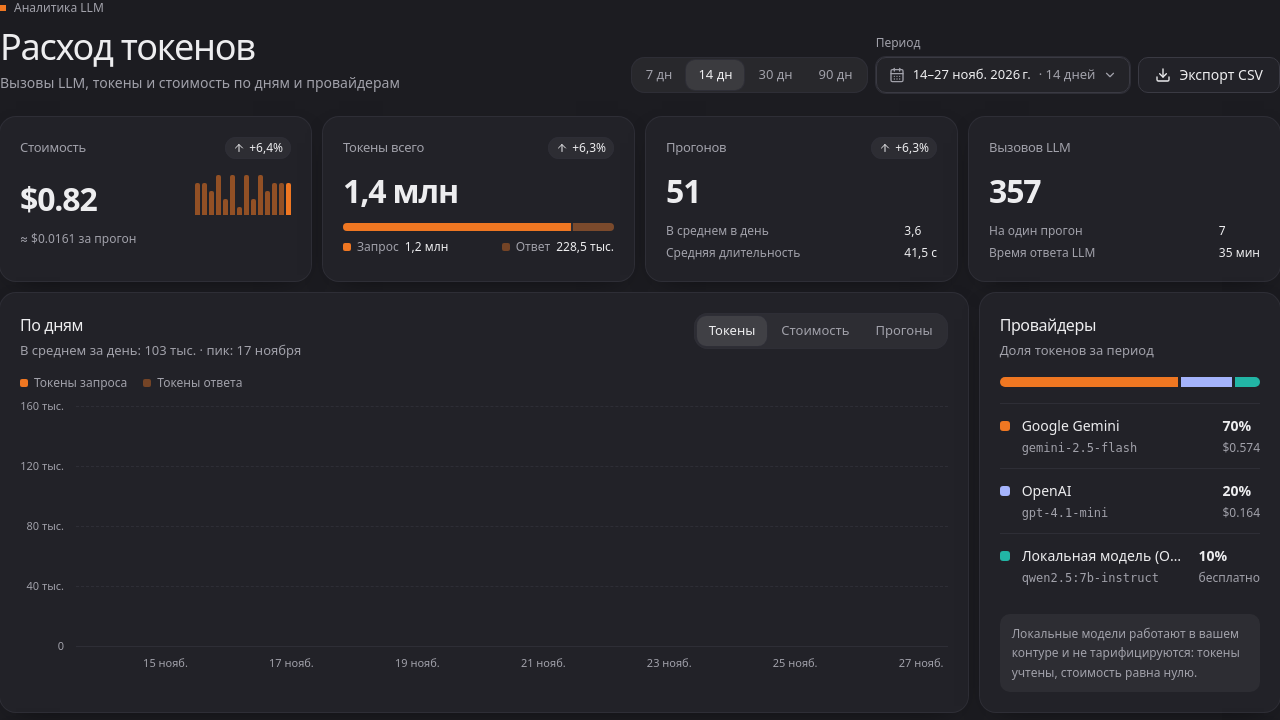
Test case: UsagePage › selects a range by two clicks, blocks future days and validates typed dates
The image size is (1280, 720).
Click the button named "Период".
click(1003, 75)  # box 876,57 -> 1130,93
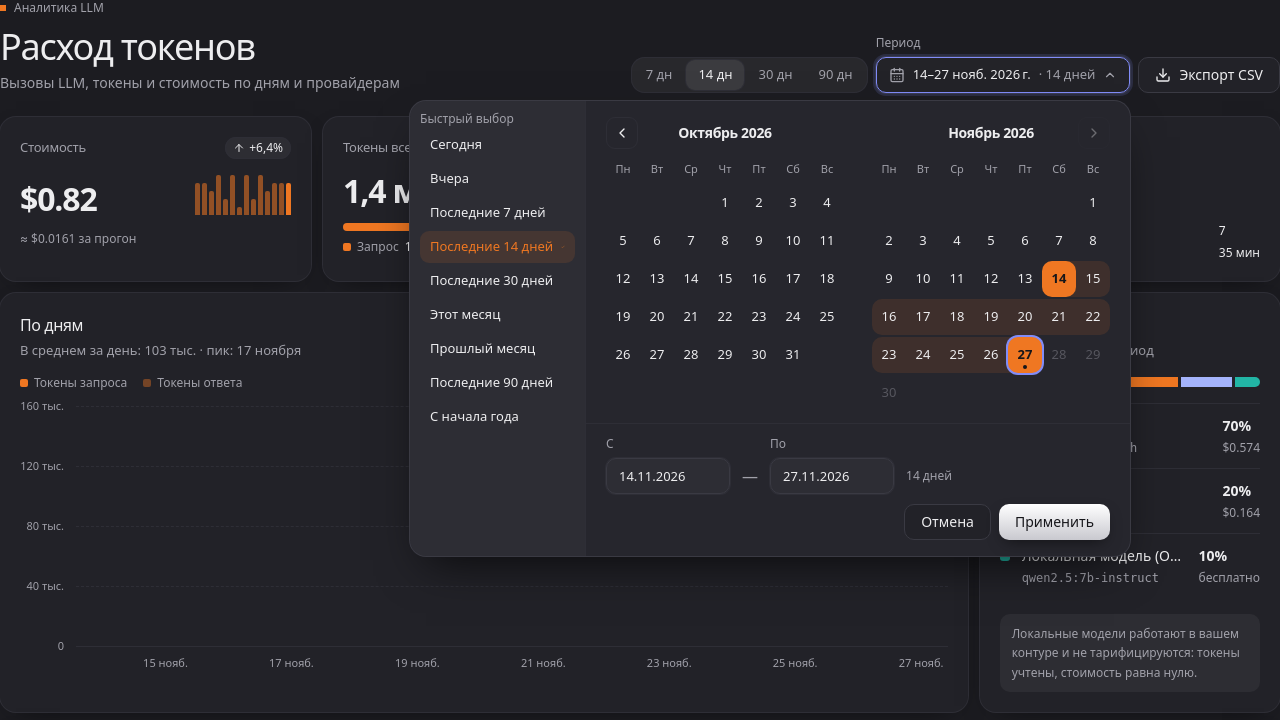
Click the 2nd button "24".
click(923, 355)  # box 906,337 -> 940,373
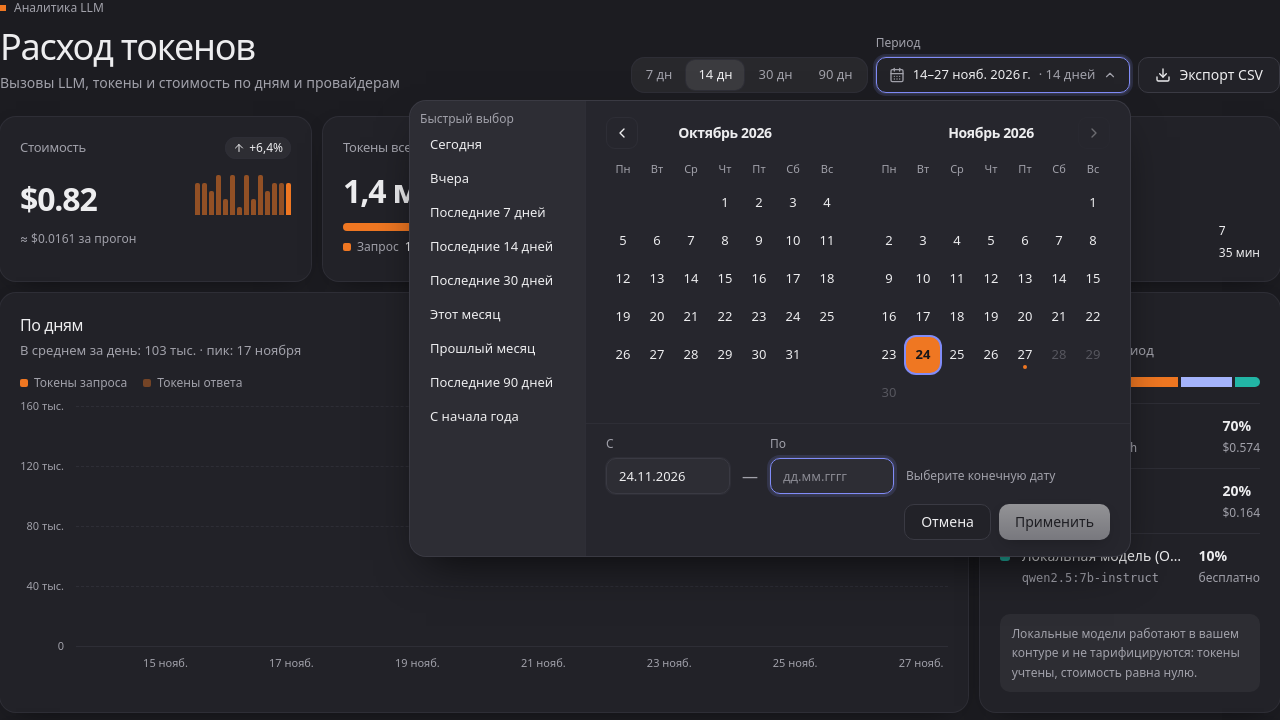
Result: the text "Выберите конечную дату" is shown at 906,467 -> 1055,484
Result: the button "Применить" is disabled at 999,504 -> 1110,540
Click the 2nd button "27".
click(1025, 355)  # box 1008,337 -> 1042,373
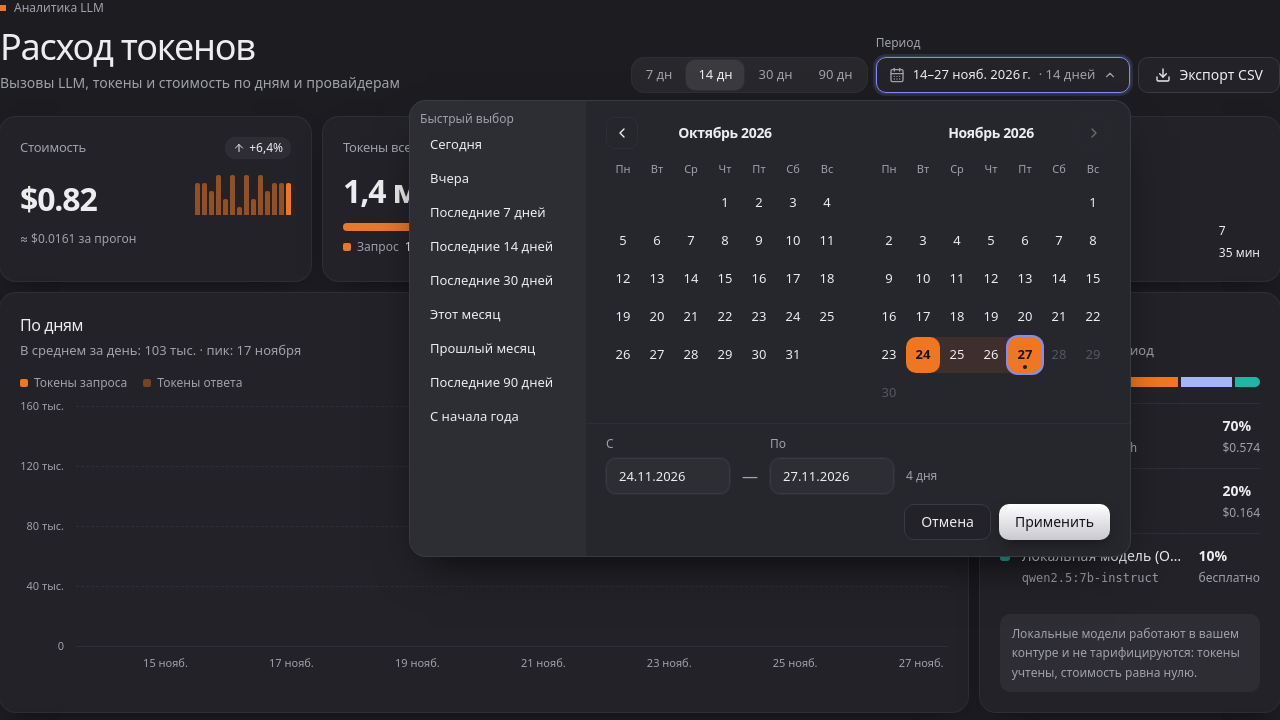
Result: the text "4 дня" is shown at 906,467 -> 937,484
Replace the text in the field labelled "С" with "31.02.2026" at (668,476), box 606,458 -> 730,494
Then press Enter
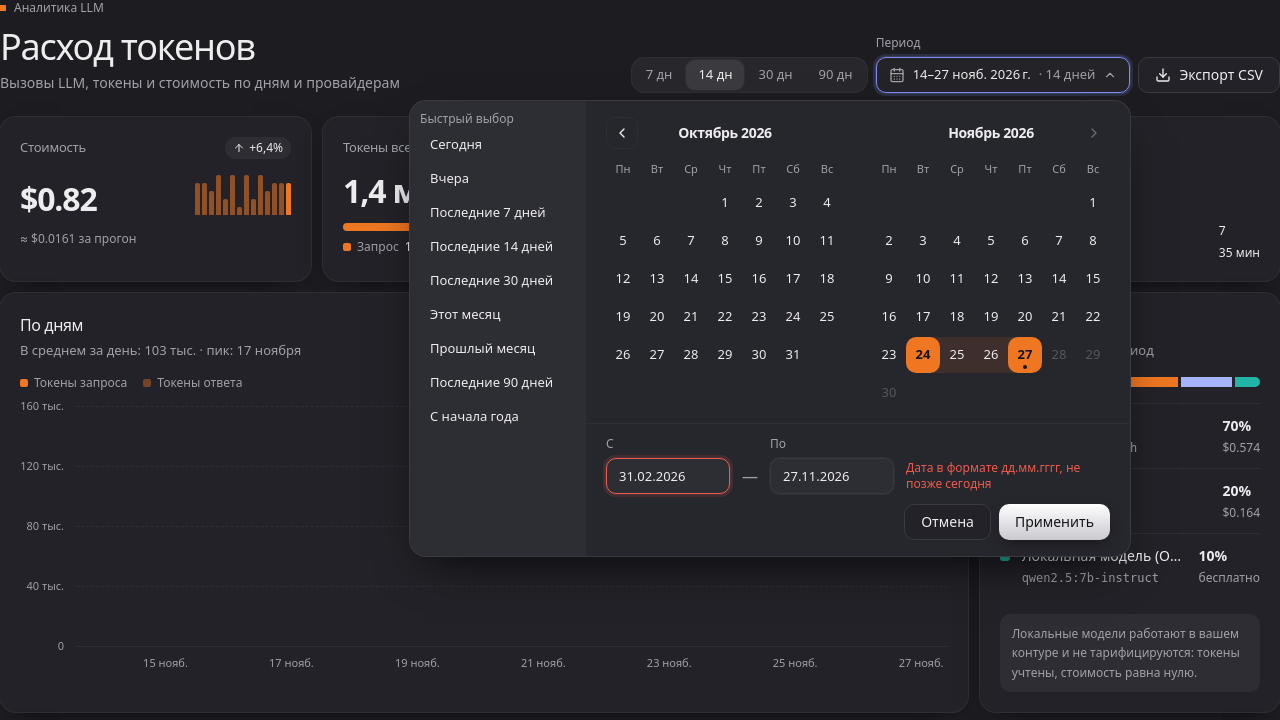
Result: the text "Дата в формате дд.мм.гггг, не позже сегодня" is shown at 906,458 -> 1110,494
